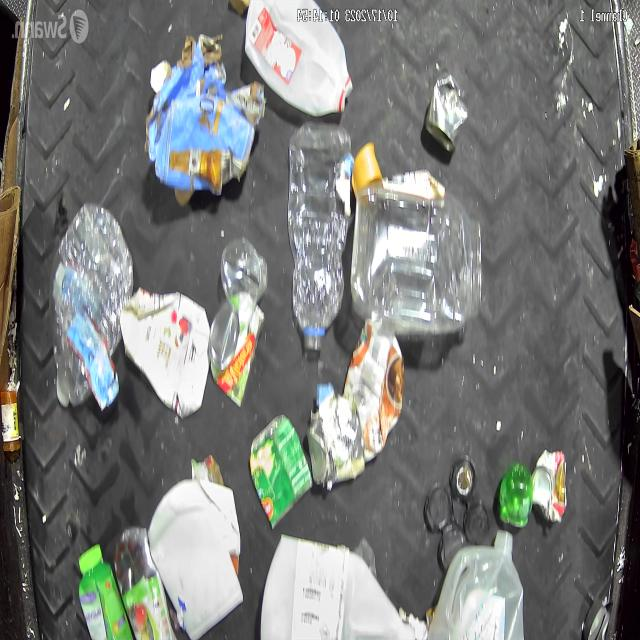can: (248, 411, 314, 529), (208, 293, 263, 407), (422, 73, 467, 156), (528, 452, 568, 527), (230, 81, 266, 130)
milk_jug: (244, 1, 354, 120), (427, 532, 524, 640)
plastic_bottle: (53, 202, 134, 407), (287, 122, 353, 351)
